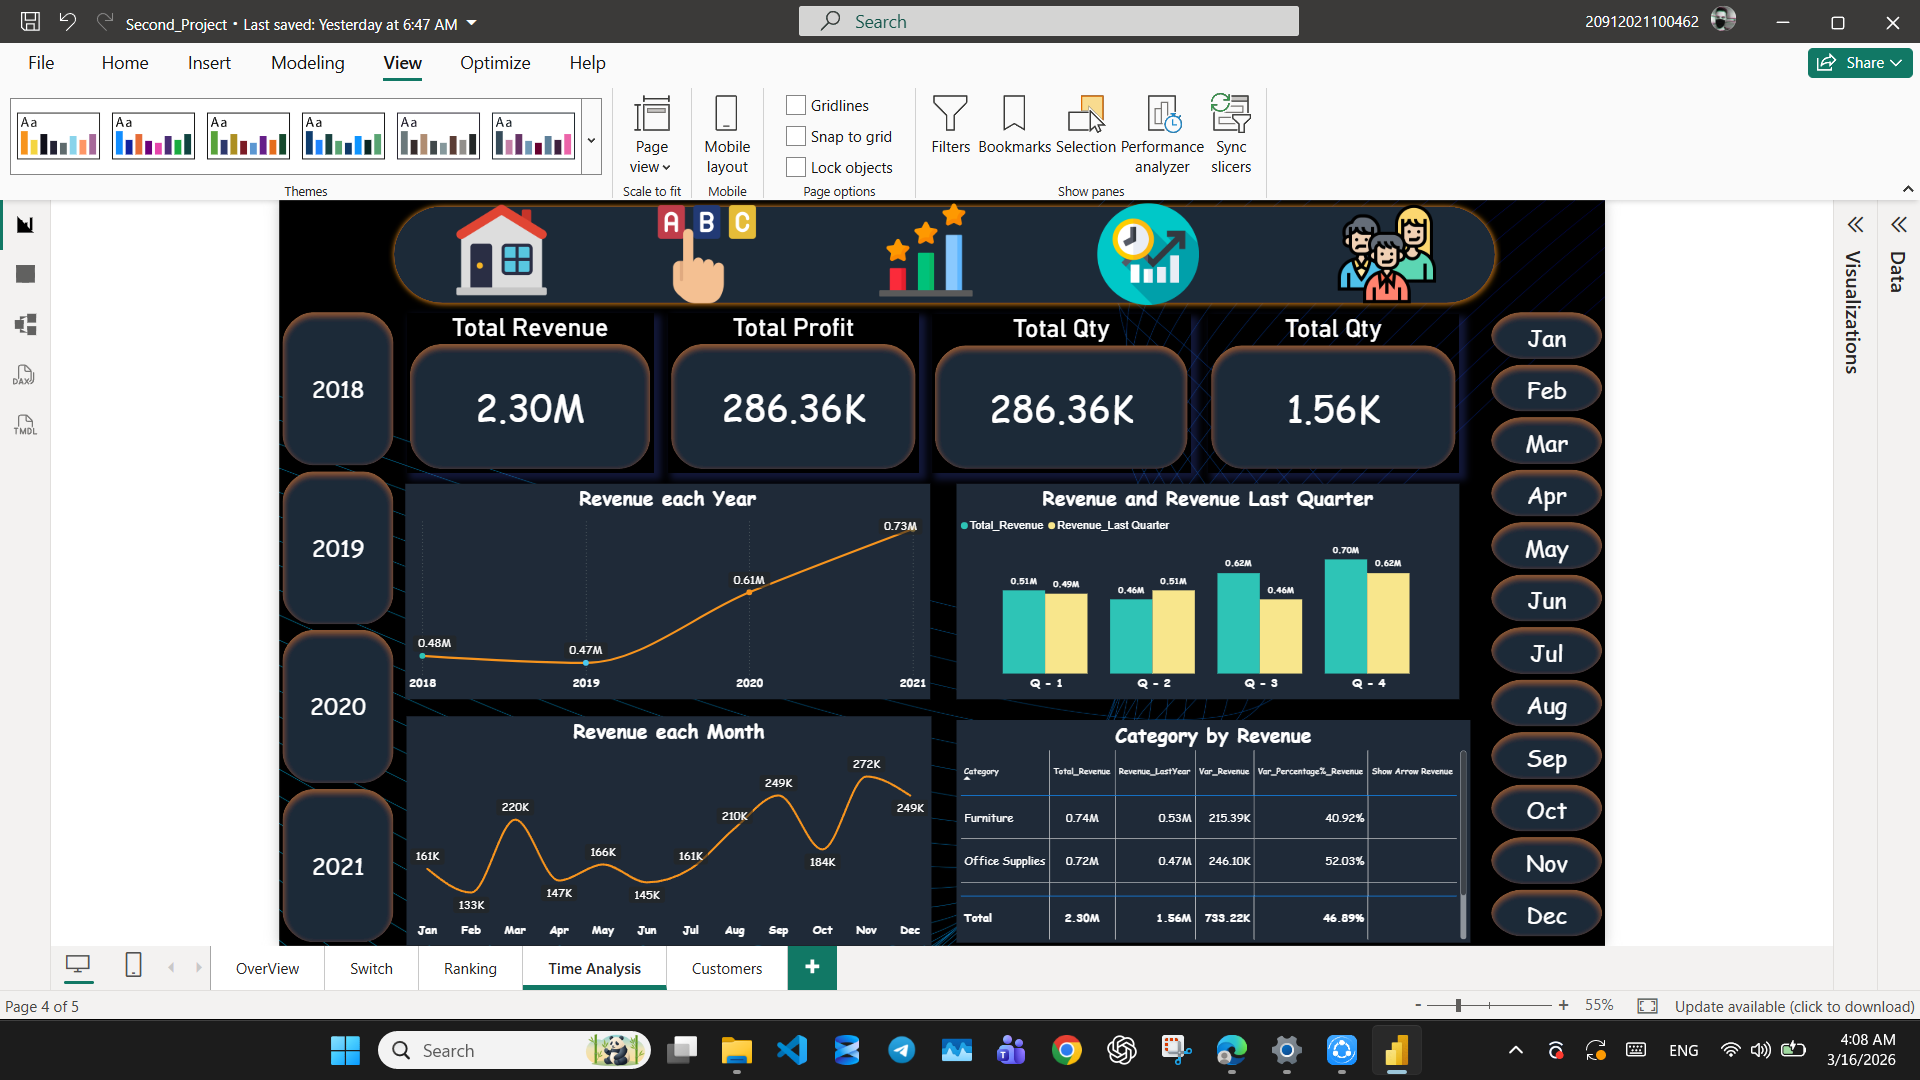

This screenshot's page, from the dashboard's own definition file:
{"tool":"powerbi","page":{"name":"Time Analysis","canvas":[1920,1080],"ordinal":3},"visuals":[{"type":"advancedSlicerVisual","fields":{"Values":["Calendar_Table.Month_Name"]},"box":[0,504,170,576],"z":0},{"type":"shape","box":[158,0,1758,158],"z":1000},{"type":"card","fields":{"Values":["Dax.Show % Revenue"]},"box":[200,314,124,104],"z":2000},{"type":"card","fields":{"Values":["Dax.Show Arrow Revenue"]},"box":[392,312,170,106],"z":3000},{"type":"card","fields":{"Values":["Dax.Show % Profit"]},"box":[584,312,122,104],"z":4000},{"type":"card","fields":{"Values":["Dax.Show Arrow Profit"]},"box":[774,308,170,108],"z":5000},{"type":"card","fields":{"Values":["Dax.Show % Quantity"]},"box":[944,308,136,102],"z":6000},{"type":"card","fields":{"Values":["Dax.Show Arrow Quantity"]},"box":[1172,308,172,104],"z":7000},{"type":"card","fields":{"Values":["Dax.Show % Discount"]},"box":[1344,310,136,102],"z":8000},{"type":"card","fields":{"Values":["Dax.Show Arrow Discount"]},"box":[1558,306,172,104],"z":9000},{"type":"clusteredColumnChart","title":"Revenue and Revenue Last Quarter ","fields":{"Y":["Dax.Total_Revenue","Calendar_Table.Revenue_Last Quarter"],"Category":["Calendar_Table.Quarter"]},"box":[1071.7,410,848.3,320],"z":10000},{"type":"lineChart","title":"Revenue each Month","fields":{"Category":["Calendar_Table.Month_Name"],"Y":["Dax.Total_Revenue"]},"box":[183.3,748.3,870,331.7],"z":11000},{"type":"lineChart","title":"Revenue each Year","fields":{"Y":["Dax.Total_Revenue"],"Category":["Calendar_Table.Year"]},"box":[183.3,410,870,311.7],"z":12000},{"type":"tableEx","title":"Category by Revenue","fields":{"Values":["Dim_Product.Category","Dax.Total_Revenue","Dax.Revenue_LastYear","Dax.Var_Revenue","Dax.Var_Percentage%_Revenue","Dax.Show Arrow Revenue"]},"box":[1071.7,751.7,843.3,328.3],"z":13000},{"type":"image","box":[230.7,0,184.2,144.8],"z":14000},{"type":"image","box":[646,2,158,158],"z":15000},{"type":"image","box":[1698,0,156,158],"z":16000},{"type":"image","box":[1014,6,158,144],"z":17000},{"type":"image","box":[1400,2,158,158],"z":18000},{"type":"advancedSlicerVisual","fields":{"Values":["Dim_Customer.Region"]},"box":[6,80,158,406],"z":19000},{"type":"card","title":"Total Profit","fields":{"Values":["Dax.Total_Profit"]},"box":[622,184,432,198],"z":20000},{"type":"card","title":"Total Qty","fields":{"Values":["Dax.Total_Quantity"]},"box":[1072,184,428,198],"z":21000},{"type":"card","title":"Total Discount","fields":{"Values":["Dax.Total_Discount"]},"box":[1524,184,396,198],"z":22000},{"type":"card","title":"Total Revenue","fields":{"Values":["Dax.Total_Revenue"]},"box":[184,184,418,198],"z":23000}]}

Visuals, with their boxes on the page's 1920x1080 design canvas (x1, y1, x2, y2). These are canvas units, not pixel positions in the 1920x1080 screenshot, which may show the page scaled, cropped or inside an application window:
advancedSlicerVisual - Calendar_Table.Month_Name: bbox=[0, 504, 170, 1080]
shape: bbox=[158, 0, 1916, 158]
card - Dax.Show % Revenue: bbox=[200, 314, 324, 418]
card - Dax.Show Arrow Revenue: bbox=[392, 312, 562, 418]
card - Dax.Show % Profit: bbox=[584, 312, 706, 416]
card - Dax.Show Arrow Profit: bbox=[774, 308, 944, 416]
card - Dax.Show % Quantity: bbox=[944, 308, 1080, 410]
card - Dax.Show Arrow Quantity: bbox=[1172, 308, 1344, 412]
card - Dax.Show % Discount: bbox=[1344, 310, 1480, 412]
card - Dax.Show Arrow Discount: bbox=[1558, 306, 1730, 410]
"Revenue and Revenue Last Quarter " clusteredColumnChart: bbox=[1072, 410, 1920, 730]
"Revenue each Month" lineChart: bbox=[183, 748, 1053, 1080]
"Revenue each Year" lineChart: bbox=[183, 410, 1053, 722]
"Category by Revenue" tableEx: bbox=[1072, 752, 1915, 1080]
image: bbox=[231, 0, 415, 145]
image: bbox=[646, 2, 804, 160]
image: bbox=[1698, 0, 1854, 158]
image: bbox=[1014, 6, 1172, 150]
image: bbox=[1400, 2, 1558, 160]
advancedSlicerVisual - Dim_Customer.Region: bbox=[6, 80, 164, 486]
"Total Profit" card: bbox=[622, 184, 1054, 382]
"Total Qty" card: bbox=[1072, 184, 1500, 382]
"Total Discount" card: bbox=[1524, 184, 1920, 382]
"Total Revenue" card: bbox=[184, 184, 602, 382]
